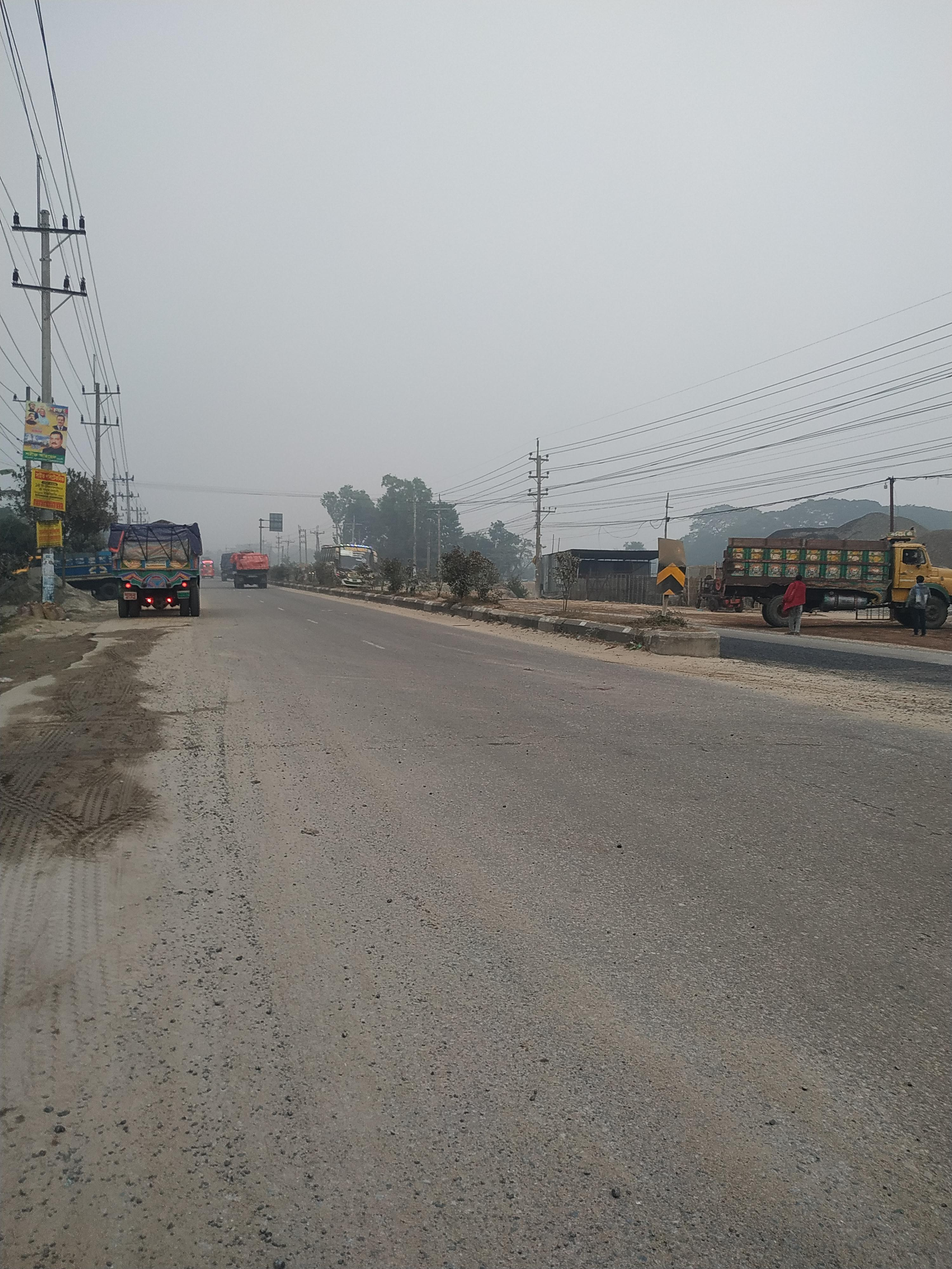Bus: (313, 521, 414, 595)
Truck: (722, 522, 952, 641), (106, 505, 209, 644), (228, 543, 278, 599)
